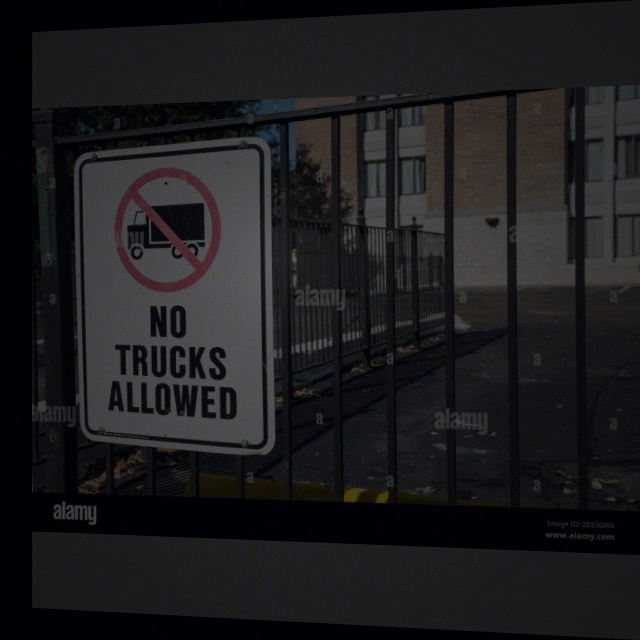Truck_Prohibited: (109, 155, 226, 299)
